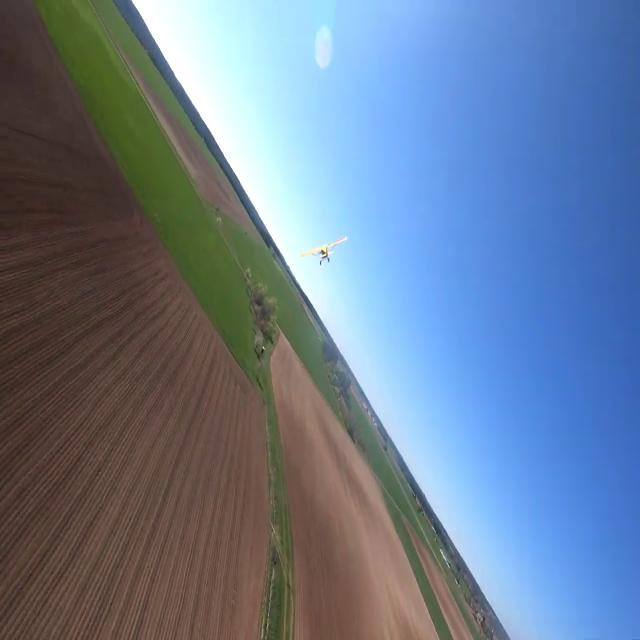iha: (301, 237, 349, 266)
